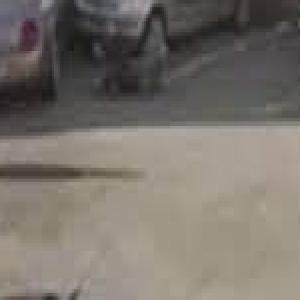superficial: (0, 0, 254, 114)
